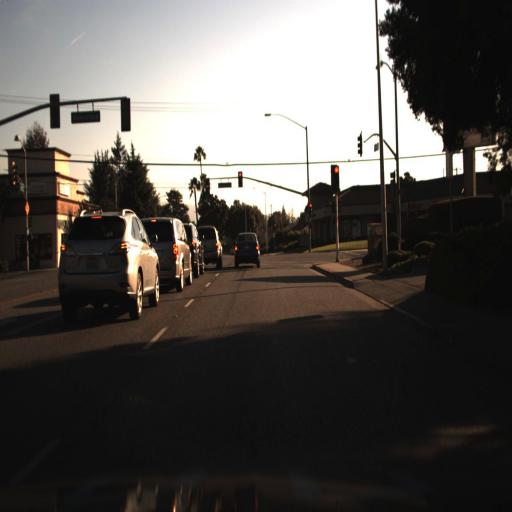car: (54, 199, 162, 328), (154, 210, 190, 296), (228, 225, 264, 276), (204, 226, 222, 270)
trafficLight: (202, 175, 212, 200)
trafficLight-Red: (330, 160, 341, 190), (331, 163, 339, 197), (236, 164, 245, 194), (304, 196, 314, 220)
